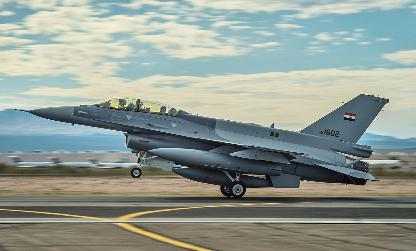F14: (13, 93, 390, 196)
